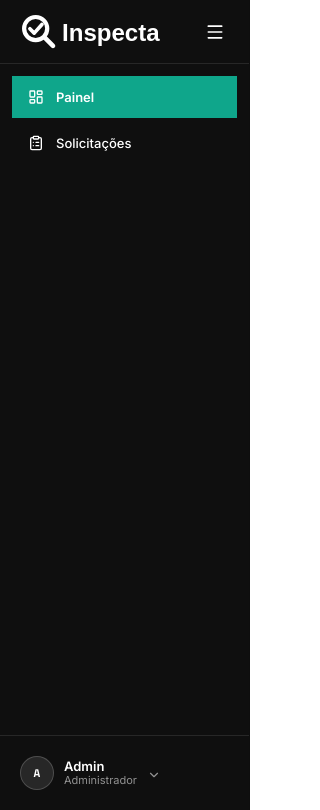
Test: Sidebar › bloco de perfil do usuário › navega para o perfil e fecha o menu ao clicar em "Acessar perfil"
Click the button with class "sidebar-profile": (124, 773) [12, 748, 237, 798]
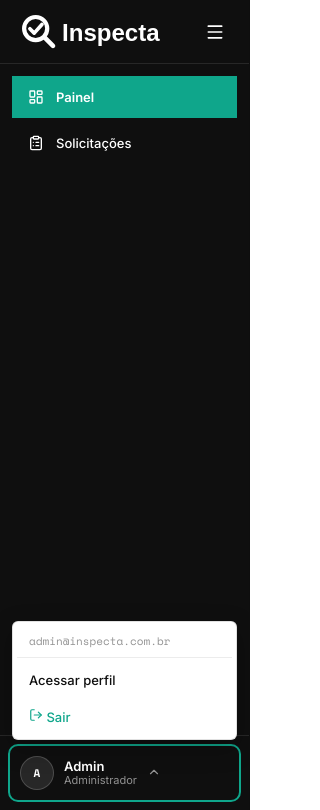
Click the menu item "Acessar perfil": (124, 680) [17, 662, 232, 698]
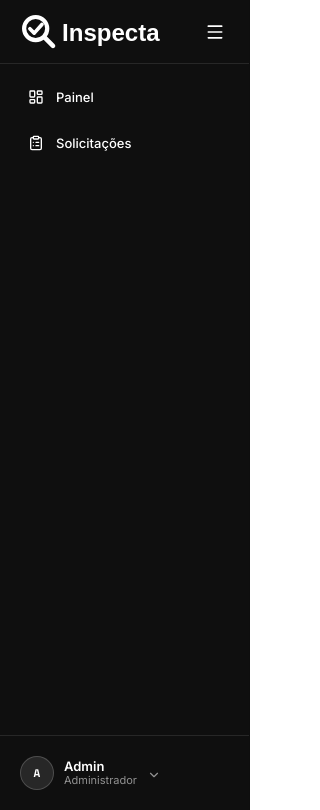
Now the menu item "Sair" is gone
